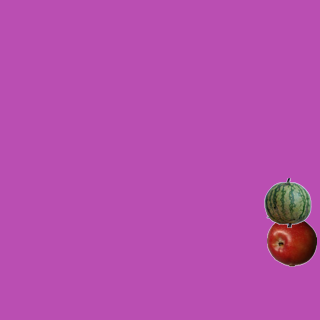Apple Braeburn: (266, 216, 316, 266)
Watermelon: (262, 177, 312, 227)
